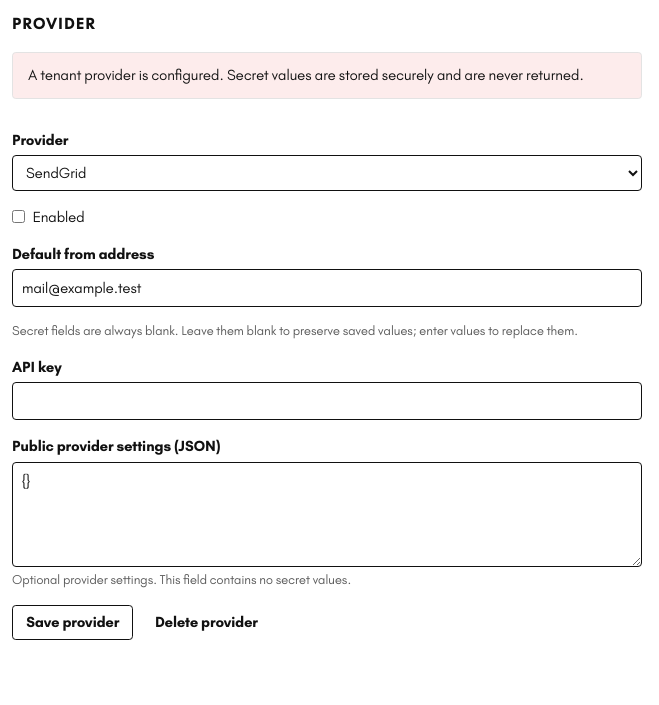
Test: Email provider settings › refreshes after a lost write response without discarding the draft or retrying
Replace the text in the field with id "email-default-from" with "draft@example.test" at (327, 288), box [12,269,642,307]
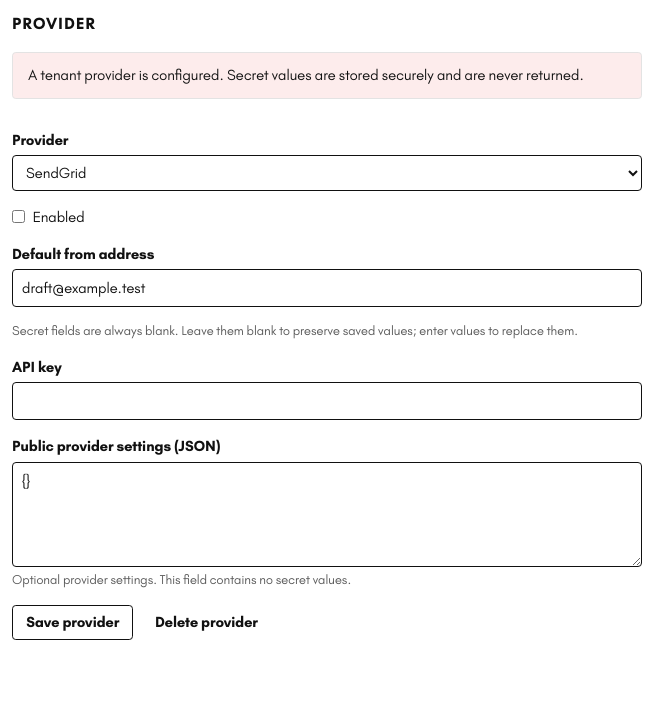
Click the button "Save provider" at (73, 622), box [12,604,133,640]
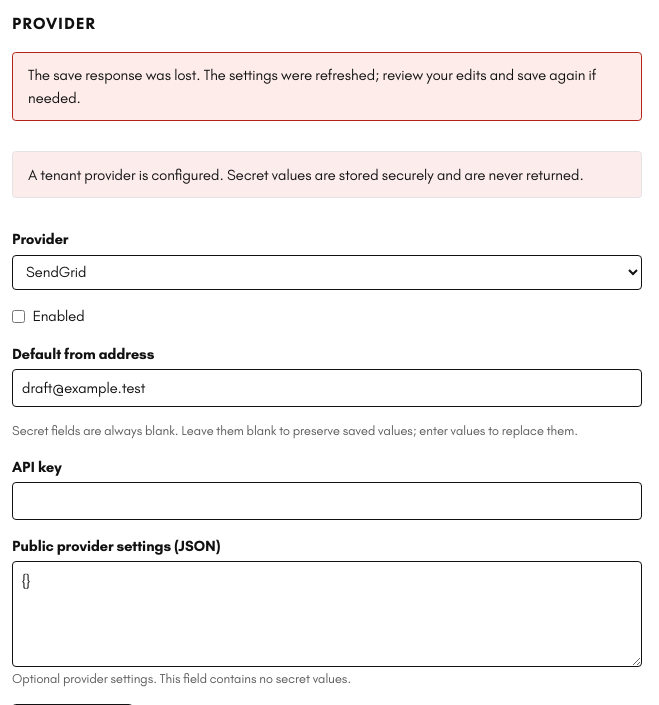
Expected: the 1st message shows "response was lost", [28,66,596,106]
